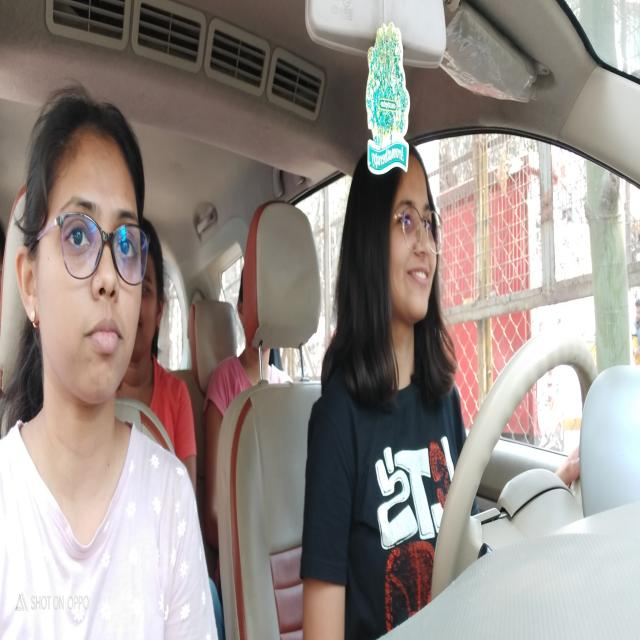person: (38, 118, 140, 395), (360, 150, 440, 326), (146, 220, 164, 372), (238, 337, 289, 388)
